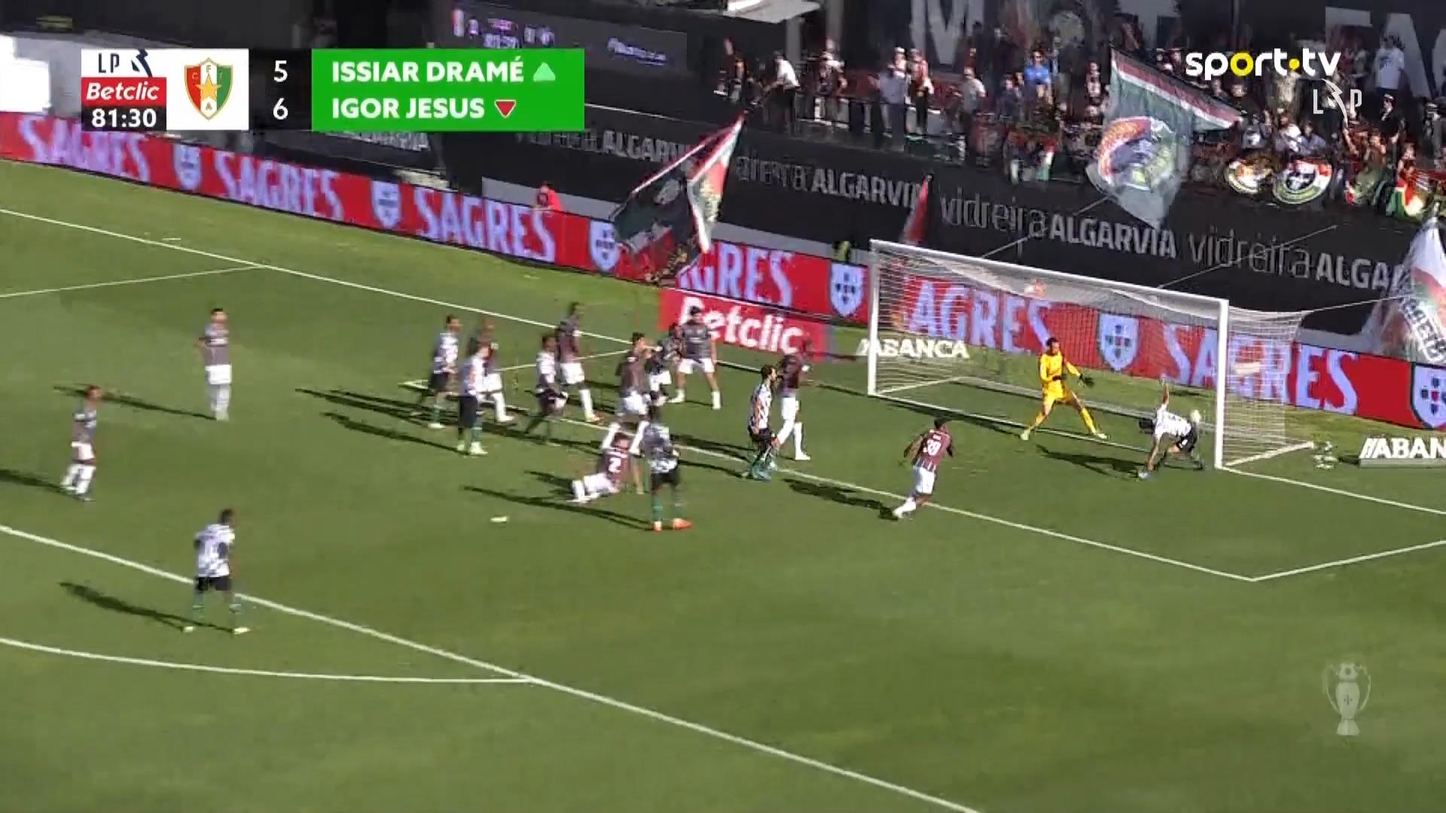goalkeeper: (1018, 335, 1109, 442)
player: (189, 507, 246, 638), (1136, 372, 1205, 480), (890, 415, 955, 520), (632, 406, 685, 530), (665, 302, 722, 410), (554, 302, 603, 423), (769, 336, 813, 462), (57, 383, 102, 501), (566, 427, 634, 504), (522, 333, 569, 441), (468, 318, 515, 424), (450, 335, 490, 455), (741, 363, 779, 480), (195, 306, 233, 421), (426, 312, 462, 429), (646, 323, 685, 415), (617, 332, 650, 432)
